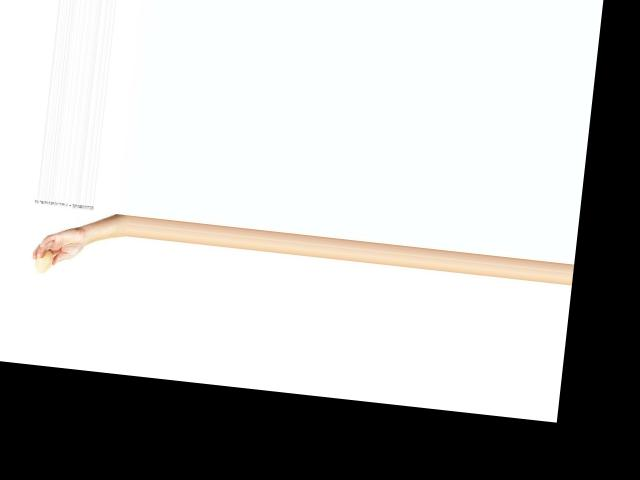egg: (34, 248, 54, 274)
